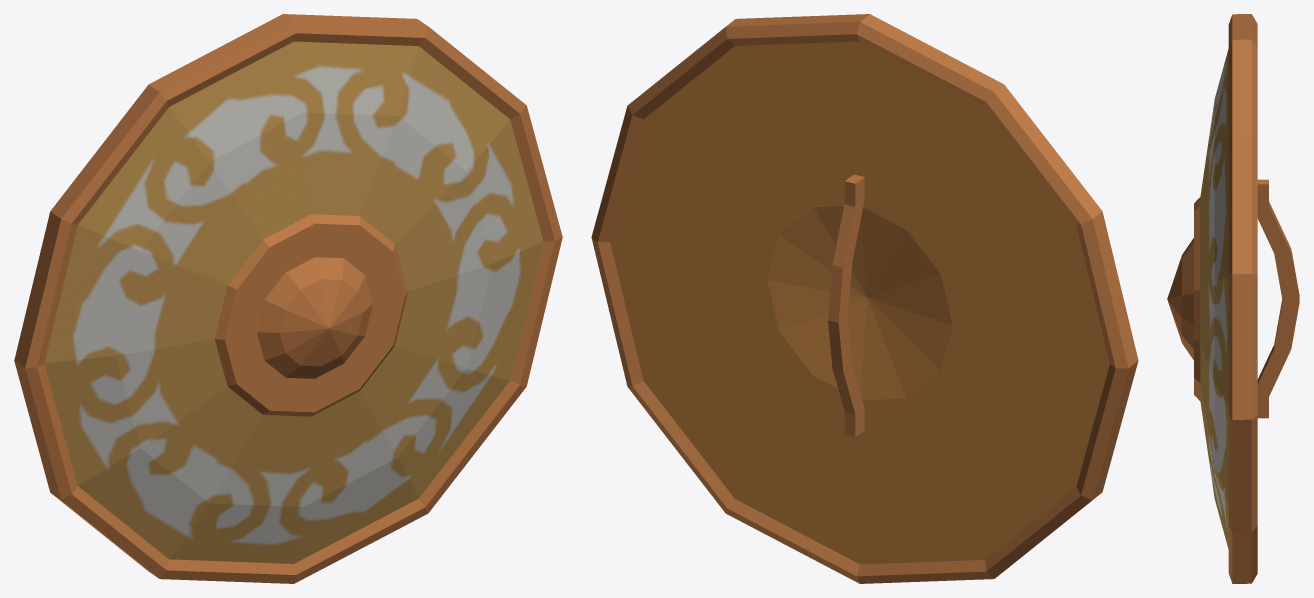
The model's file is SM_pwe_persia_shield_07.fbx.
The picture shows the model from 3 angles, left to right: view 1: azimuth 30°, elevation 25°; view 2: azimuth 150°, elevation 25°; view 3: azimuth 270°, elevation 25°; orthographic projection. The views are drawn at different scales.
Parts seen in each view (by area): view 1: SM_pwe_persia_shield_07; view 2: SM_pwe_persia_shield_07; view 3: SM_pwe_persia_shield_07.
Part boxes in pixels (<box>): SM_pwe_persia_shield_07: <box>14,14,562,583</box>; SM_pwe_persia_shield_07: <box>591,14,1138,583</box>; SM_pwe_persia_shield_07: <box>1167,14,1299,583</box>.
Size of the model in its own units: 70.51 by 70.44 by 16.34.
